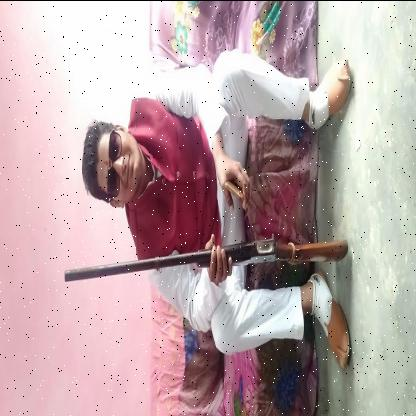rifle: (63, 228, 350, 284)
